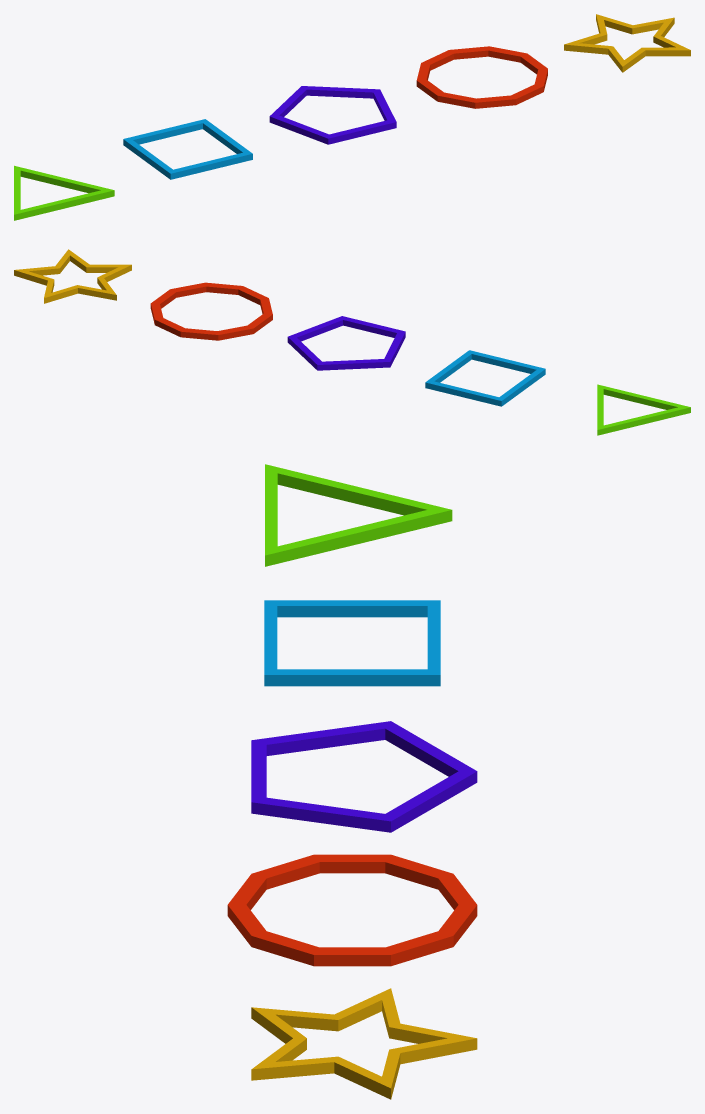
The model's file is Shapes.fbx.
3 views of the same model, one above another, from view 1: azimuth 30°, elevation 25°; view 2: azimuth 150°, elevation 25°; view 3: azimuth 270°, elevation 25° (orthographic). The views are drawn at different scales.
Parts seen in each view (by area): view 1: Circle, Pentagon, Star, Square, Triangle; view 2: Circle, Pentagon, Star, Square, Triangle; view 3: Circle, Pentagon, Star, Square, Triangle.
Boxes of the visible parts, <box> form: Circle: <box>416,46,547,108</box>; Pentagon: <box>269,86,396,144</box>; Star: <box>564,14,690,72</box>; Square: <box>123,119,252,179</box>; Triangle: <box>14,165,114,220</box>; Circle: <box>150,282,272,340</box>; Pentagon: <box>287,316,405,370</box>; Star: <box>14,249,131,303</box>; Square: <box>425,350,545,406</box>; Triangle: <box>597,384,690,435</box>; Circle: <box>227,854,477,966</box>; Pentagon: <box>251,721,477,832</box>; Star: <box>251,988,477,1099</box>; Square: <box>264,600,440,686</box>; Triangle: <box>265,464,452,566</box>.
Size of the model in its own units: 944 by 11.86 by 158.
